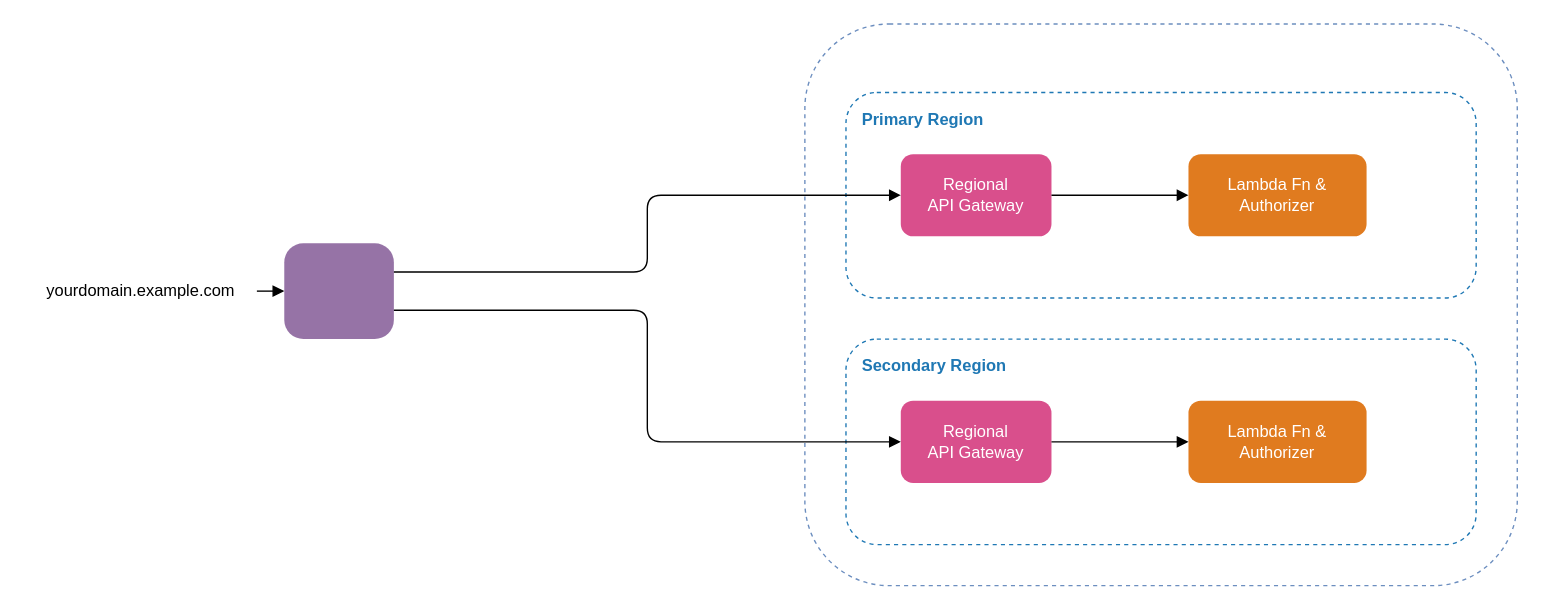
This 1541x610 diagram has some shape labels left out. Here are the shapes that lost their labels. From the top down, the box of each, then its label:
(284, 242, 393, 338): F5 Distributed Cloud
(804, 23, 1517, 586): AWS Account (Standard)
